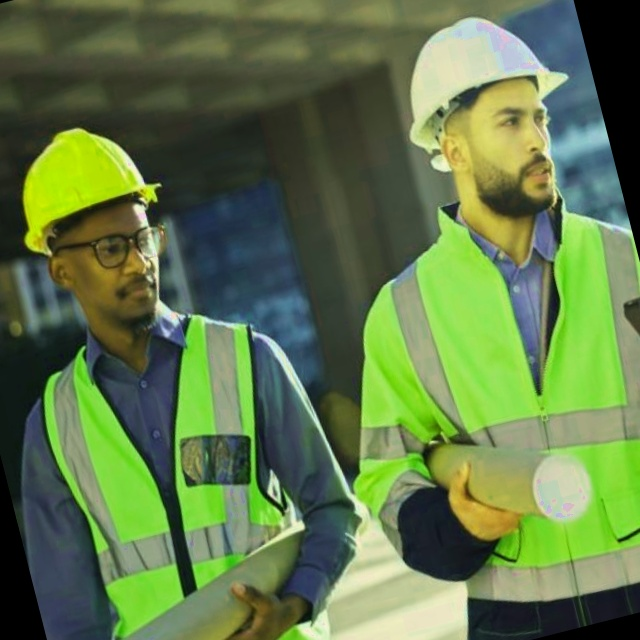Con_Casco: (388, 3, 598, 241), (2, 110, 191, 343)
Con_Chaleco: (349, 182, 640, 626), (17, 296, 350, 640)
